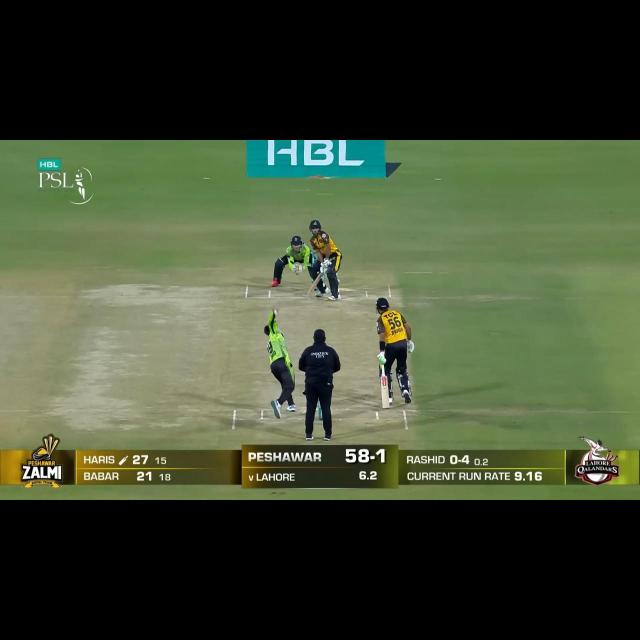bat: (378, 376, 392, 412), (307, 272, 323, 297)
toe: (380, 399, 391, 409), (308, 290, 314, 296)
